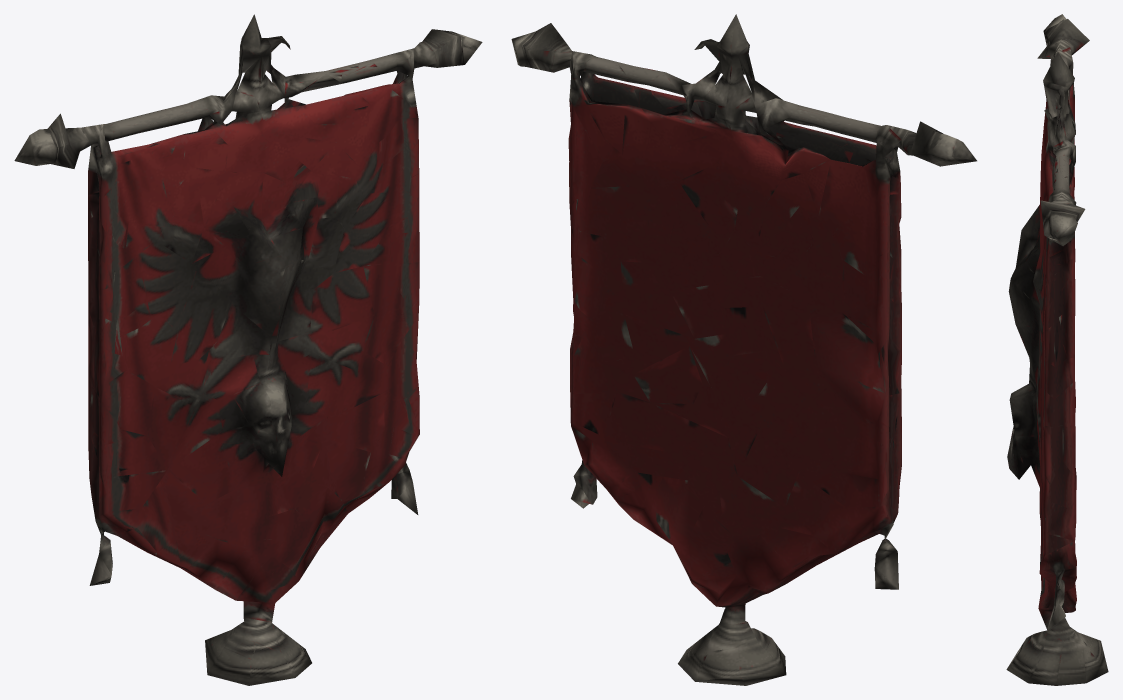
Rendered from family_banner_red.glb.
The picture shows the model from 3 angles, left to right: view 1: azimuth 30°, elevation 25°; view 2: azimuth 150°, elevation 25°; view 3: azimuth 270°, elevation 25°; orthographic projection. The views are drawn at different scales.
Size of the model in its own units: 1.5 by 2 by 0.3015.
Materials: 1 (1 with a texture image).
